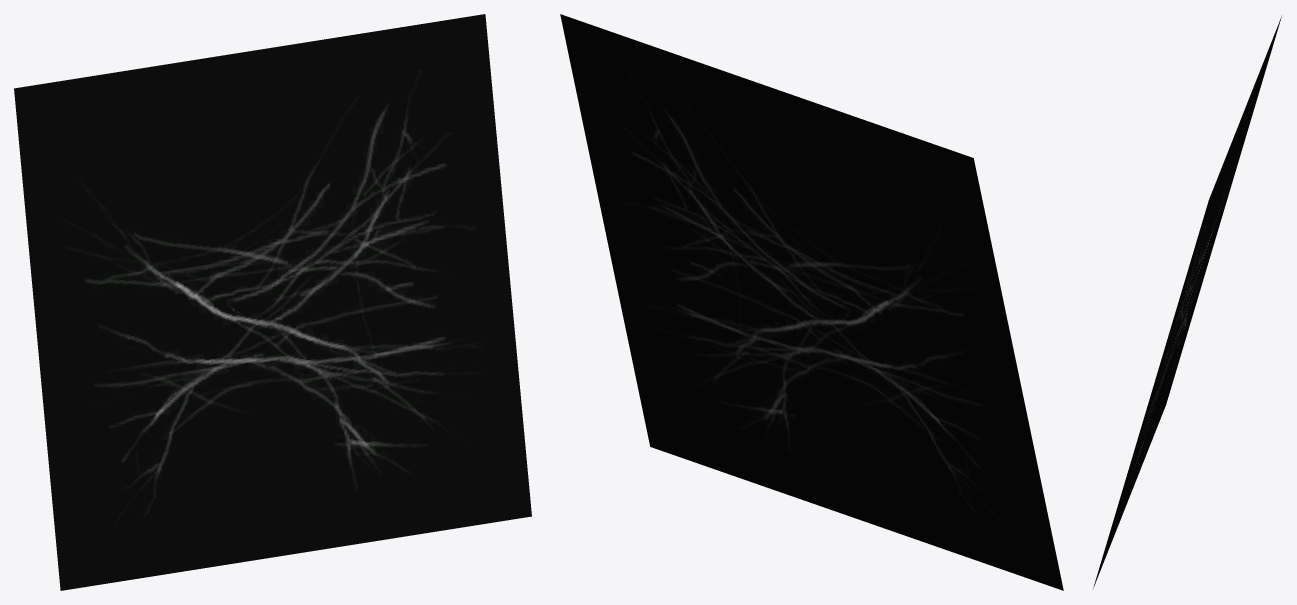
The model's file is MIRKWOOD_WEB_DECOR08.fbx.
The picture shows the model from 3 angles, left to right: view 1: azimuth 30°, elevation 25°; view 2: azimuth 150°, elevation 25°; view 3: azimuth 270°, elevation 25°; orthographic projection. The views are drawn at different scales.
Visible parts, largest first — view 1: MIRKWOOD_WEB_DECOR08; view 2: MIRKWOOD_WEB_DECOR08; view 3: MIRKWOOD_WEB_DECOR08.
Part boxes in pixels (left/top/right/bottom): MIRKWOOD_WEB_DECOR08: left=14, top=14, right=531, bottom=590; MIRKWOOD_WEB_DECOR08: left=560, top=14, right=1063, bottom=590; MIRKWOOD_WEB_DECOR08: left=1093, top=16, right=1281, bottom=588.
Bounding box in the file's own units: 91675 × 87789 × 37892.
Materials: 1 (1 with a texture image).
